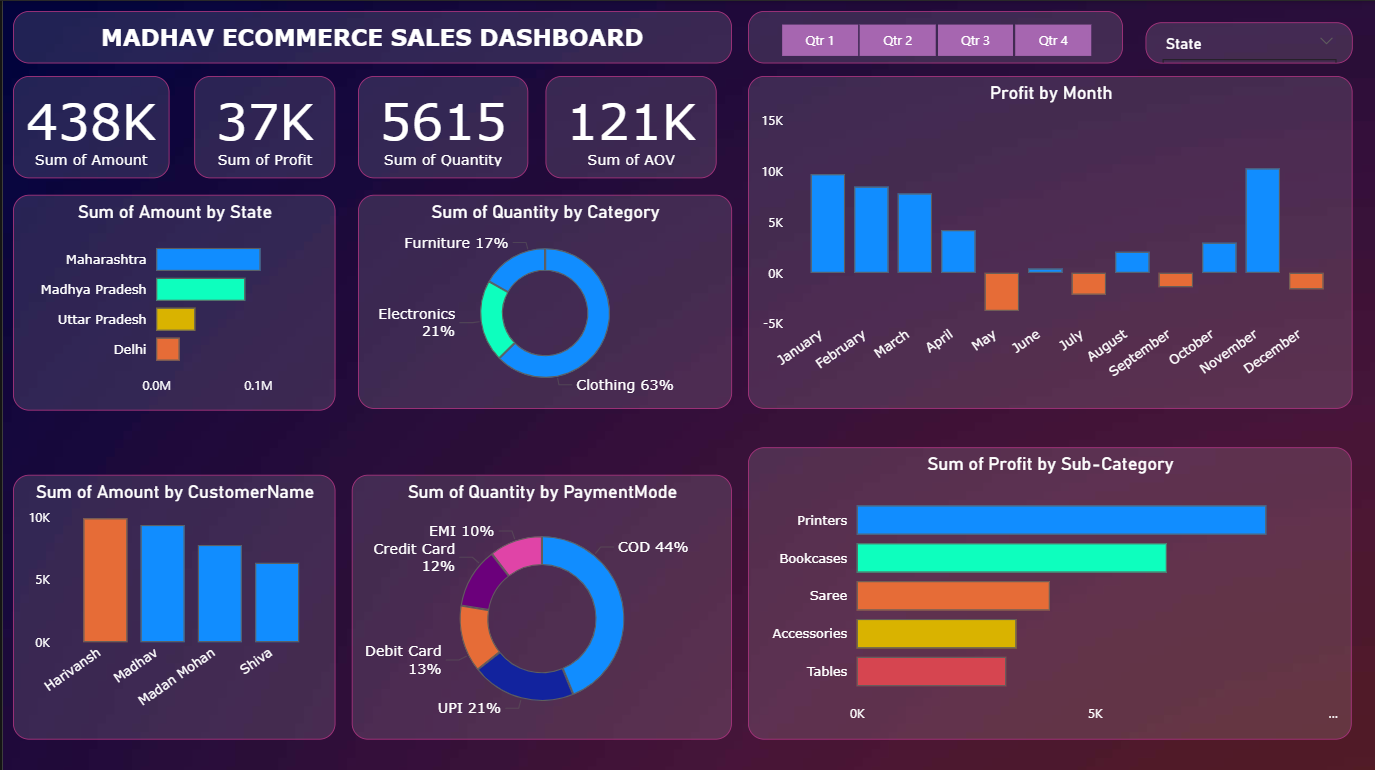

This screenshot's page, from the dashboard's own definition file:
{"tool":"powerbi","page":{"name":"Page 1","canvas":[1280,720],"ordinal":0},"visuals":[{"type":"textbox","box":[9.3,9.3,668.6,48.8],"z":0},{"type":"columnChart","title":"Profit by Month","fields":{"Y":["Details.Profit"],"Category":["Orders.Order Date.Variation.Date Hierarchy.Month"]},"box":[693,69.8,562.8,309.3],"z":1000},{"type":"barChart","fields":{"Y":["Details.Profit"],"Category":["Details.Sub-Category"]},"box":[693,415.1,561.6,272.1],"z":2000},{"type":"donutChart","fields":{"Category":["Details.Category"],"Y":["Details.Quantity"]},"box":[330.2,180.2,347.7,198.8],"z":3000},{"type":"donutChart","fields":{"Y":["Details.Quantity"],"Category":["Details.PaymentMode"]},"box":[324.4,440.7,353.5,246.5],"z":4000},{"type":"card","fields":{"Values":["Details.Amount"]},"box":[9.3,69.8,145.3,95.3],"z":5000},{"type":"card","fields":{"Values":["Details.Quantity"]},"box":[330.2,69.8,158.1,95.3],"z":6000},{"type":"card","fields":{"Values":["Details.Profit"]},"box":[177.9,69.8,131.4,95.3],"z":7000},{"type":"card","fields":{"Values":["Details.AOV"]},"box":[504.7,69.8,159.3,95.3],"z":8000},{"type":"barChart","fields":{"Category":["Orders.State"],"Y":["Details.Amount"]},"box":[0,180.2,309.3,201.2],"z":9000},{"type":"columnChart","fields":{"Category":["Orders.CustomerName"],"Y":["Details.Amount"]},"box":[0,440.7,309.3,246.5],"z":10000},{"type":"slicer","fields":{"Values":["Orders.Order Date.Variation.Date Hierarchy.Quarter"]},"box":[693,9.3,348.8,48.8],"z":11000},{"type":"slicer","fields":{"Values":["Orders.State"]},"box":[1062.8,19.8,193,38.4],"z":12000}]}

Visuals, with their boxes in screenshot pixels (x1, y1, x2, y2), scaled from the page's 1280x720 canvas onto the 1375x770 screenshot:
textbox: [left=10, top=10, right=728, bottom=62]
"Profit by Month" columnChart: [left=744, top=75, right=1349, bottom=405]
barChart - Details.Profit x Details.Sub-Category: [left=744, top=444, right=1348, bottom=735]
donutChart - Details.Category x Details.Quantity: [left=355, top=193, right=728, bottom=405]
donutChart - Details.Quantity x Details.PaymentMode: [left=348, top=471, right=728, bottom=735]
card - Details.Amount: [left=10, top=75, right=166, bottom=177]
card - Details.Quantity: [left=355, top=75, right=525, bottom=177]
card - Details.Profit: [left=191, top=75, right=332, bottom=177]
card - Details.AOV: [left=542, top=75, right=713, bottom=177]
barChart - Orders.State x Details.Amount: [left=0, top=193, right=332, bottom=408]
columnChart - Orders.CustomerName x Details.Amount: [left=0, top=471, right=332, bottom=735]
slicer - Orders.Order Date.Variation.Date Hierarchy.Quarter: [left=744, top=10, right=1119, bottom=62]
slicer - Orders.State: [left=1142, top=21, right=1349, bottom=62]
